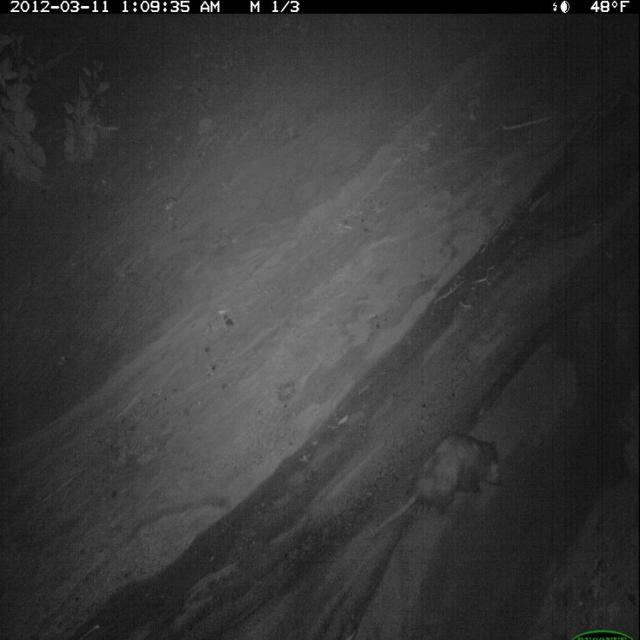opossum: (361, 427, 509, 551)
